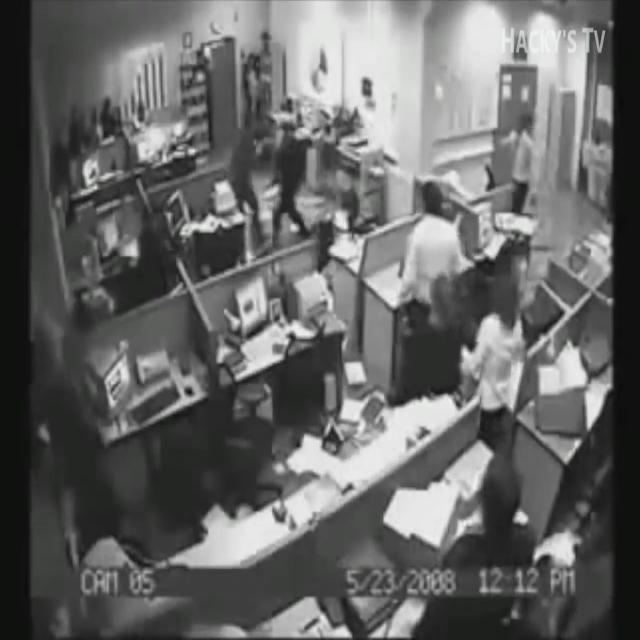fight: (206, 68, 318, 260)
